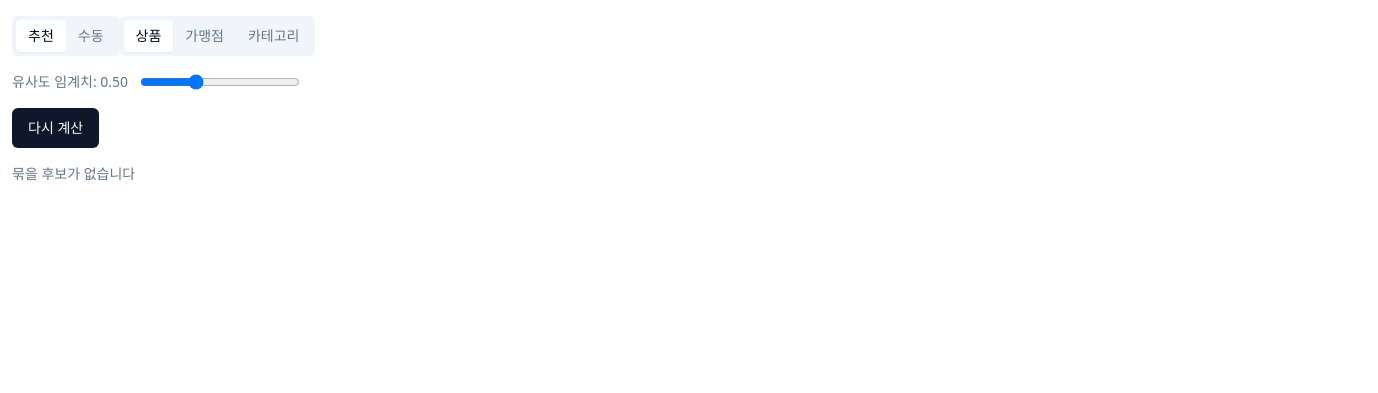
Scenario: ClusterTab › '다시 계산' 클릭 시 fetch 후 카드 렌더
The width and height of the screenshot is (1378, 393).
Note: click manual refresh
Click the button "다시 계산" at x=56, y=128, box 12,108 -> 99,148
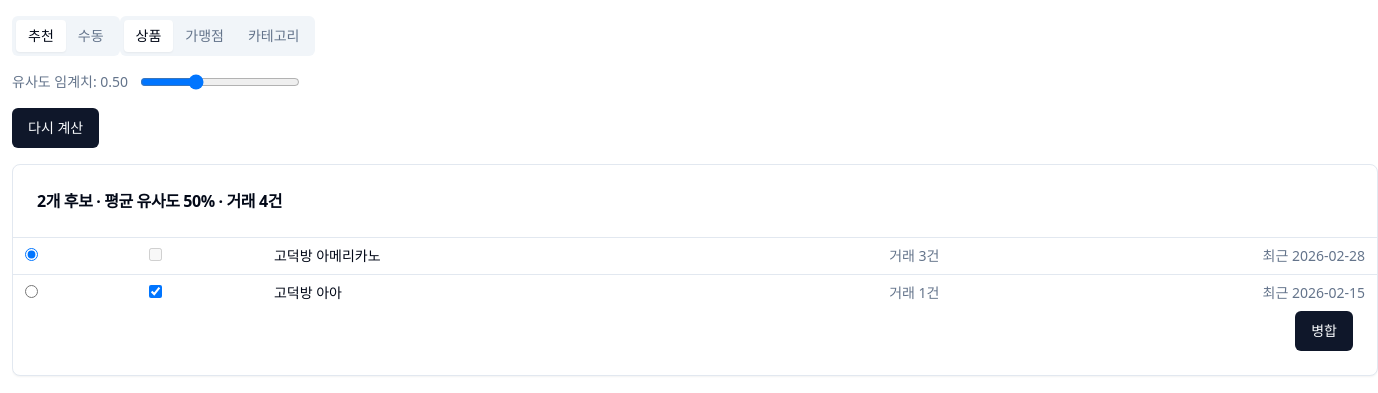
Expected: the text "고덕방 아메리카노" is shown, 262,238 -> 702,274
